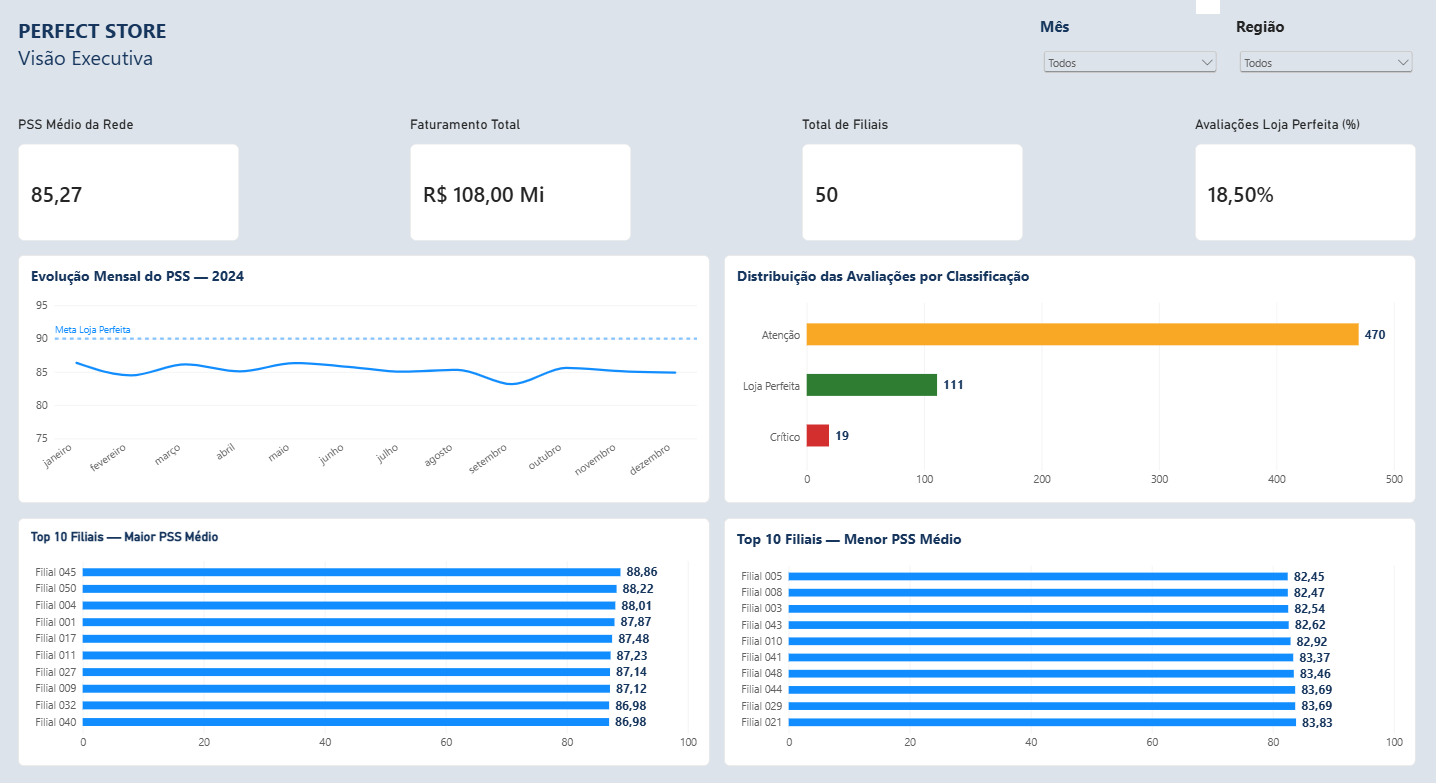

The dashboard page shown, as its layout file describes it:
{"tool":"powerbi","page":{"name":"Visão Executiva","canvas":[1920,1080],"ordinal":0},"visuals":[{"type":"cardVisual","title":"PSS Médio da Rede","fields":{"Data":["projeto1_vendas_perfect_store.PSS Medio"]},"box":[30,165,294,166],"z":0},{"type":"cardVisual","title":"Faturamento Total","fields":{"Data":["projeto1_vendas_perfect_store.Faturamento Total"]},"box":[552,165,294,166],"z":1000},{"type":"cardVisual","title":"Total de Filiais","fields":{"Data":["projeto1_vendas_perfect_store.Total de Filiais"]},"box":[1074,165,294,166],"z":2000},{"type":"cardVisual","title":"Avaliações Loja Perfeita (%)","fields":{"Data":["projeto1_vendas_perfect_store.Percentual Lojas Perfeitas"]},"box":[1596,165,294,166],"z":3000},{"type":"lineChart","title":"Evolução Mensal do PSS — 2024","fields":{"Category":["projeto1_vendas_perfect_store.mes_referencia.Variação.Hierarquia de datas.Mês"],"Y":["projeto1_vendas_perfect_store.PSS Medio"]},"box":[30,350,920,330],"z":4000},{"type":"clusteredBarChart","title":"Distribuição das Avaliações por Classificação","fields":{"Category":["projeto1_vendas_perfect_store.Classificacao_PSS"],"Y":["CountNonNull(projeto1_vendas_perfect_store.Classificacao_PSS)"]},"box":[970,350,920,330],"z":5000},{"type":"clusteredBarChart","title":"Top 10 Filiais — Maior PSS Médio","fields":{"Category":["projeto1_vendas_perfect_store.codigo_filial"],"Y":["projeto1_vendas_perfect_store.PSS Medio"]},"box":[30,700,920,330],"z":6000},{"type":"clusteredBarChart","title":"Top 10 Filiais — Menor PSS Médio","fields":{"Category":["projeto1_vendas_perfect_store.codigo_filial"],"Y":["projeto1_vendas_perfect_store.PSS Medio"]},"box":[970,700,920,330],"z":7000},{"type":"slicer","title":"Mês","fields":{"Values":["projeto1_vendas_perfect_store.Nome_Mes"]},"box":[1390,30,240,110],"z":8000},{"type":"slicer","title":"Região","fields":{"Values":["projeto1_vendas_perfect_store.regiao"]},"box":[1650,30,240,110],"z":9000},{"type":"textbox","box":[30,31.7,406.7,98.3],"z":10000}]}

Visuals, with their boxes on the page's 1920x1080 design canvas (x1, y1, x2, y2). These are canvas units, not pixel positions in the 1436x783 screenshot, which may show the page scaled, cropped or inside an application window:
"PSS Médio da Rede" cardVisual: box=[30, 165, 324, 331]
"Faturamento Total" cardVisual: box=[552, 165, 846, 331]
"Total de Filiais" cardVisual: box=[1074, 165, 1368, 331]
"Avaliações Loja Perfeita (%)" cardVisual: box=[1596, 165, 1890, 331]
"Evolução Mensal do PSS — 2024" lineChart: box=[30, 350, 950, 680]
"Distribuição das Avaliações por Classificação" clusteredBarChart: box=[970, 350, 1890, 680]
"Top 10 Filiais — Maior PSS Médio" clusteredBarChart: box=[30, 700, 950, 1030]
"Top 10 Filiais — Menor PSS Médio" clusteredBarChart: box=[970, 700, 1890, 1030]
"Mês" slicer: box=[1390, 30, 1630, 140]
"Região" slicer: box=[1650, 30, 1890, 140]
textbox: box=[30, 32, 437, 130]
